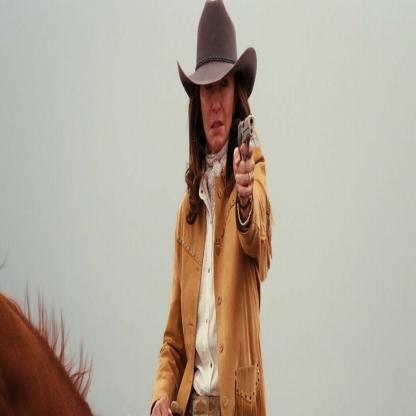gun: (232, 96, 260, 176)
